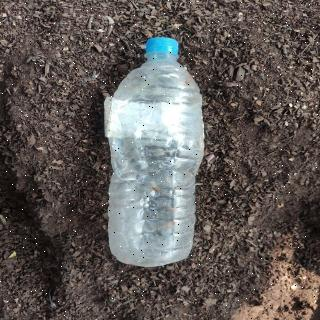Plastic-bottle: (98, 33, 211, 271)
